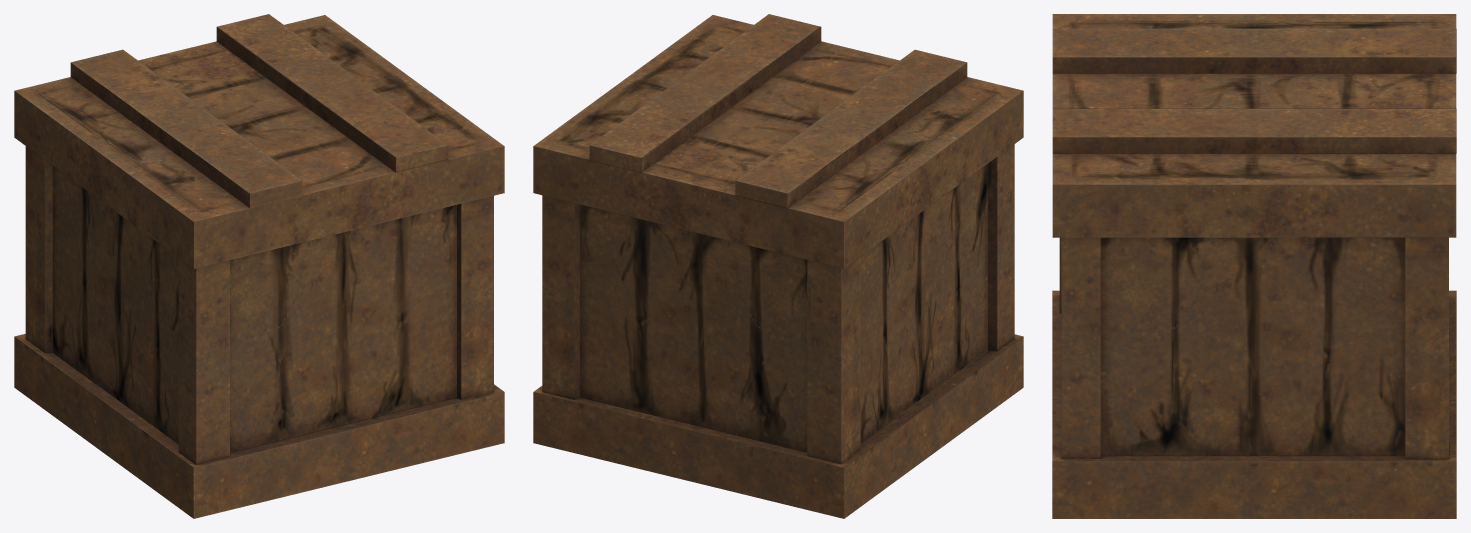
The model's file is crate.glb.
3 views of the same model, side by side, from view 1: azimuth 30°, elevation 25°; view 2: azimuth 150°, elevation 25°; view 3: azimuth 270°, elevation 25° (orthographic). The views are drawn at different scales.
Parts seen in each view (by area): view 1: TheRig-Crate; view 2: TheRig-Crate; view 3: TheRig-Crate.
Part boxes in pixels (x1,y1,x2,y2): TheRig-Crate: [14, 14, 504, 518]; TheRig-Crate: [533, 14, 1023, 518]; TheRig-Crate: [1052, 14, 1456, 518].
Size of the model in its own units: 2.21 by 2.12 by 2.21.
1 material, 1 textured.
